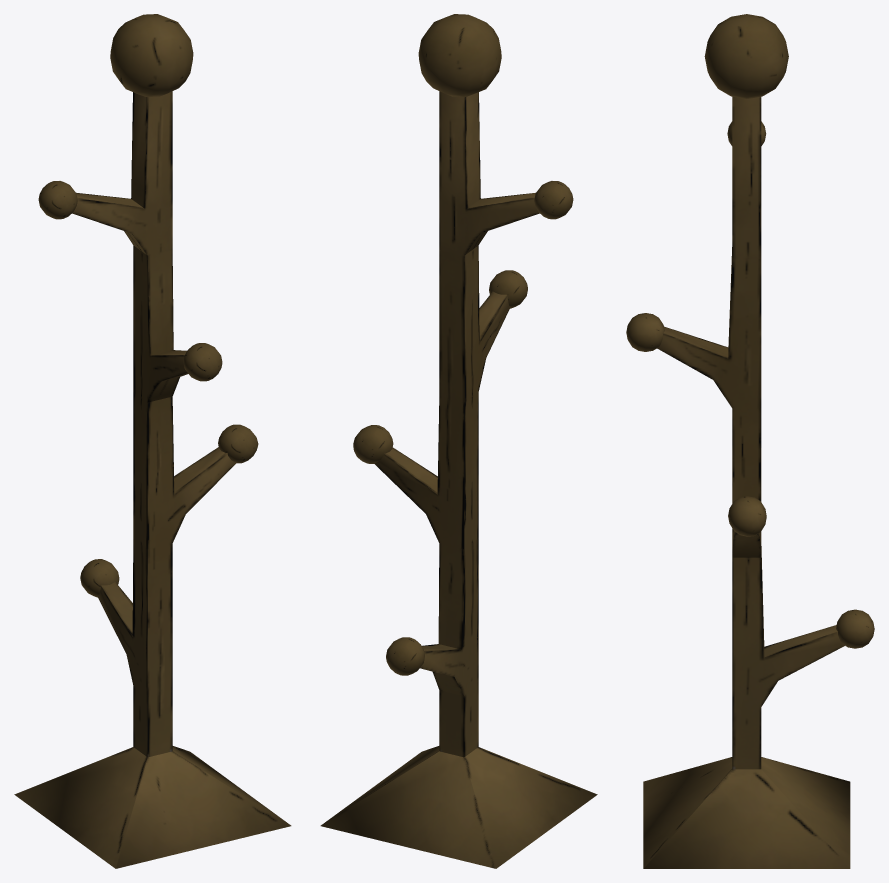
The model's file is Coat_hanger.fbx.
3 views of the same model, side by side, from view 1: azimuth 30°, elevation 25°; view 2: azimuth 150°, elevation 25°; view 3: azimuth 270°, elevation 25° (orthographic).
Parts seen in each view (by area): view 1: Coat_Hanger; view 2: Coat_Hanger; view 3: Coat_Hanger.
Boxes of the visible parts, x1,y1,x2,y2 form: Coat_Hanger: (14, 14, 291, 868); Coat_Hanger: (320, 14, 597, 868); Coat_Hanger: (626, 14, 874, 868).
Bounding box in the file's own units: 67.29 × 237 × 66.2.
Materials: 1 (1 with a texture image).
